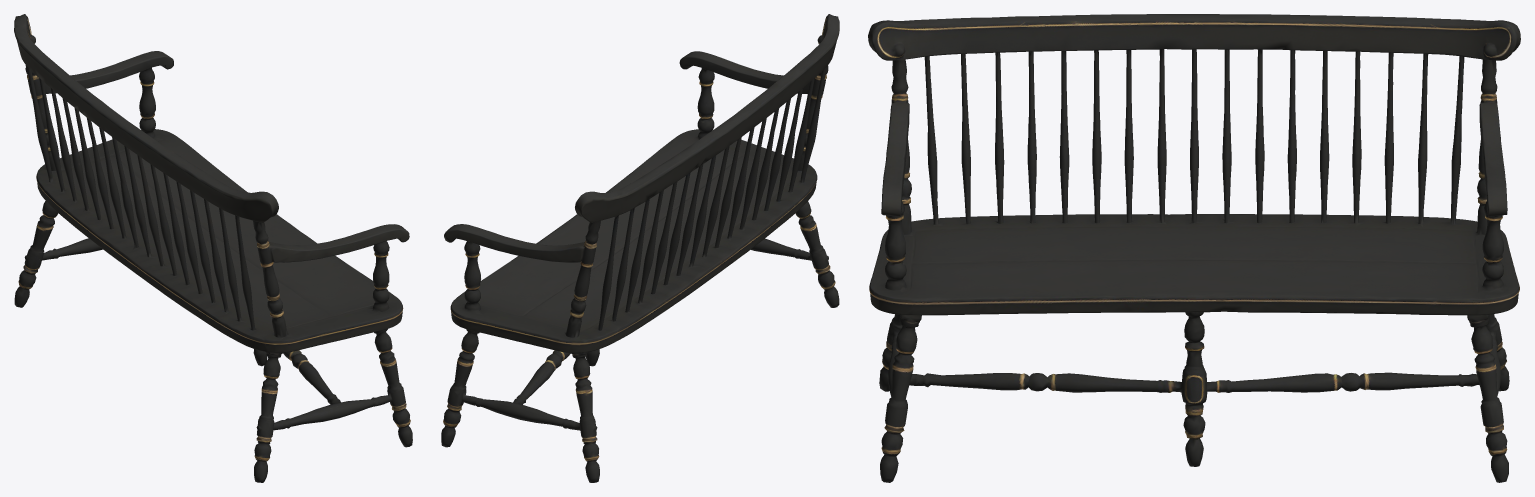
The model's file is spindle-bench.glb.
3 renders of one model, left to right at view 1: azimuth 30°, elevation 25°; view 2: azimuth 150°, elevation 25°; view 3: azimuth 270°, elevation 25°, orthographic. The views are drawn at different scales.
Visible parts, largest first — view 1: tripo_node_aa9ede48-bbd4-4f68-b380-8d0e6c3ad29a; view 2: tripo_node_aa9ede48-bbd4-4f68-b380-8d0e6c3ad29a; view 3: tripo_node_aa9ede48-bbd4-4f68-b380-8d0e6c3ad29a.
Part boxes in pixels (x1,y1,x2,y2): tripo_node_aa9ede48-bbd4-4f68-b380-8d0e6c3ad29a: (14, 14, 412, 482); tripo_node_aa9ede48-bbd4-4f68-b380-8d0e6c3ad29a: (441, 14, 839, 482); tripo_node_aa9ede48-bbd4-4f68-b380-8d0e6c3ad29a: (868, 14, 1520, 482).
Size of the model in its own units: 0.6162 by 0.95 by 1.52.
1 material, 1 textured.
